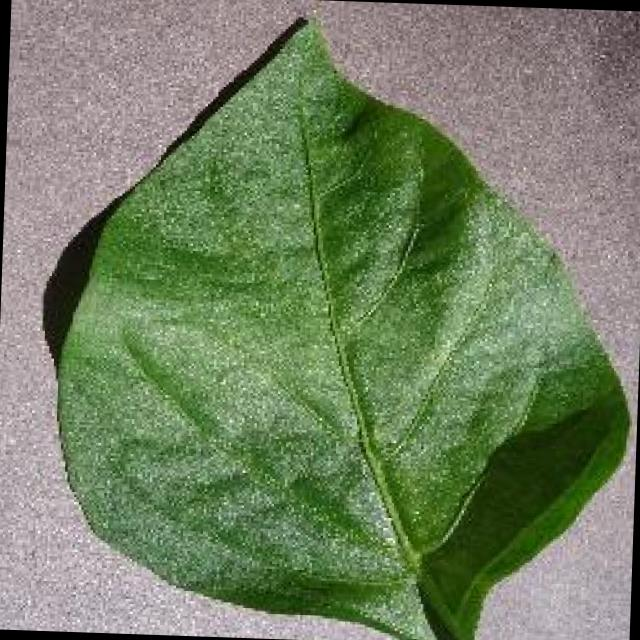Chilli_Healthy: (42, 3, 640, 640)
